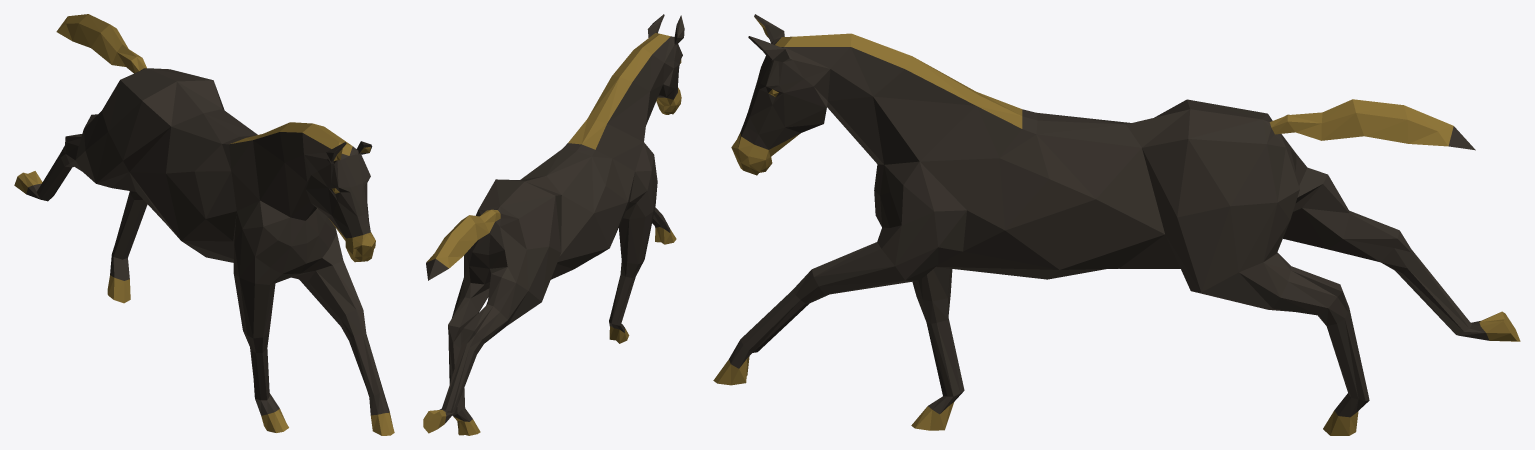
File: Horse_golden_v4_dark_mane.glb
The picture shows the model from 3 angles, left to right: view 1: azimuth 30°, elevation 25°; view 2: azimuth 150°, elevation 25°; view 3: azimuth 270°, elevation 25°; orthographic projection. The views are drawn at different scales.
Size of the model in its own units: 61.1 by 182 by 322.
